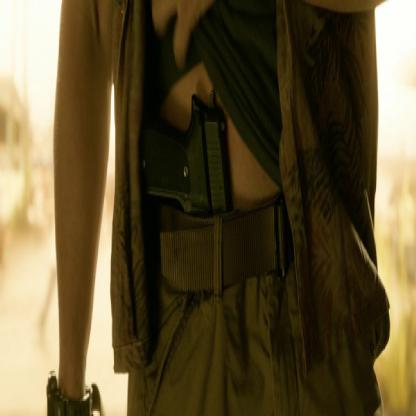Guns: (135, 90, 250, 376)
